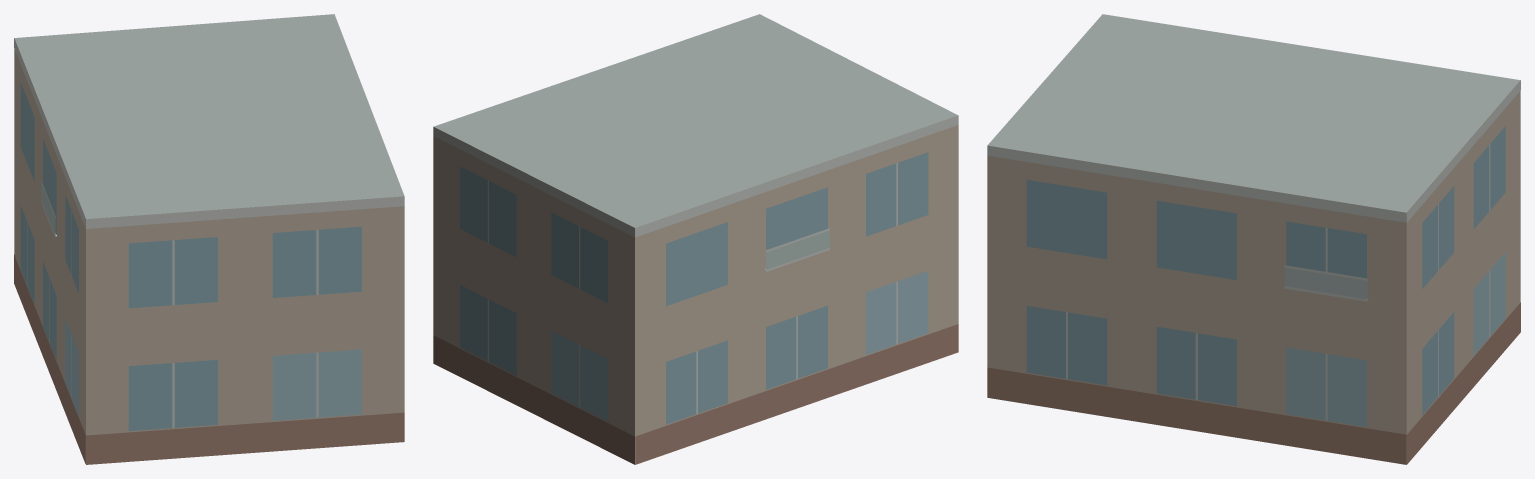
The model's file is survey-upis-32614845.glb.
3 views of the same model, side by side, from view 1: azimuth 30°, elevation 25°; view 2: azimuth 150°, elevation 25°; view 3: azimuth 270°, elevation 25° (orthographic). The views are drawn at different scales.
Parts seen in each view (by area): view 1: survey-upis-32614845.tmp; view 2: survey-upis-32614845.tmp; view 3: survey-upis-32614845.tmp.
Boxes of the visible parts, bbox=[...] form: survey-upis-32614845.tmp: bbox=[14, 14, 404, 464]; survey-upis-32614845.tmp: bbox=[433, 14, 958, 464]; survey-upis-32614845.tmp: bbox=[987, 14, 1520, 464].
Size of the model in its own units: 10.32 by 6.1 by 11.71.
